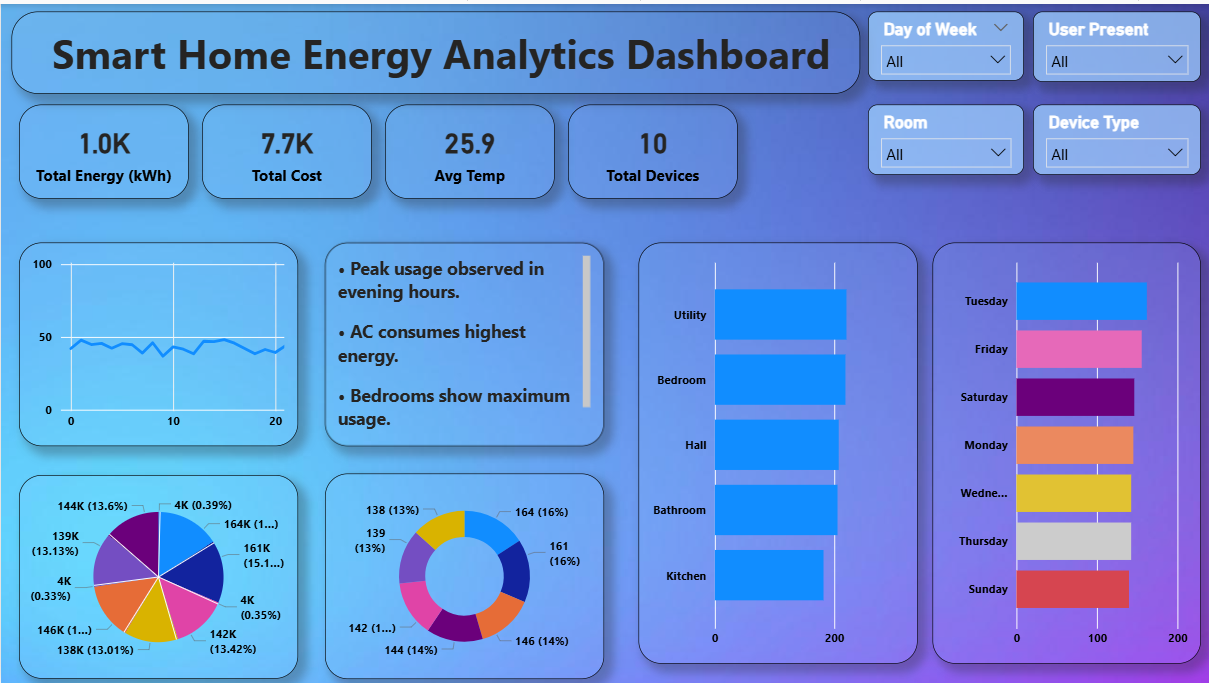

What the dashboard file says about the page in this screenshot:
{"tool":"powerbi","page":{"name":"Smart home ","canvas":[1280,720],"ordinal":0},"visuals":[{"type":"textbox","box":[11.1,8,900.3,87.5],"z":0},{"type":"card","fields":{"Values":["SmartHomeData.Total Energy (kWh)"]},"box":[19.1,106.6,180,100],"z":1000},{"type":"card","fields":{"Values":["SmartHomeData.Total Cost"]},"box":[213.1,106.6,179.7,100.2],"z":2000},{"type":"card","fields":{"Values":["SmartHomeData.Avg Temp"]},"box":[407.2,106.6,179.7,100.2],"z":3000},{"type":"card","fields":{"Values":["SmartHomeData.Total Devices"]},"box":[601.3,106.6,179.7,100.2],"z":4000},{"type":"clusteredBarChart","fields":{"Category":["SmartHomeData.room"],"Y":["SmartHomeData.Total Energy (kWh)"]},"box":[676,252.9,295.9,447],"z":5000},{"type":"donutChart","fields":{"Category":["SmartHomeData.device_type"],"Y":["SmartHomeData.Total Energy (kWh)"]},"box":[343.6,497.9,295.9,217.9],"z":6000},{"type":"lineChart","fields":{"Category":["SmartHomeData.hour_of_day"],"Y":["SmartHomeData.Total Energy (kWh)"]},"box":[19.1,252.9,295.9,216.3],"z":7000},{"type":"pieChart","fields":{"Category":["SmartHomeData.device_type"],"Y":["Sum(SmartHomeData.indoor_temp)","Sum(SmartHomeData.power_watt)"]},"box":[19.1,499.5,295.9,216.3],"z":8000},{"type":"slicer","fields":{"Values":["SmartHomeData.room"]},"box":[919.4,106.6,165.4,74.8],"z":9000},{"type":"slicer","fields":{"Values":["SmartHomeData.device_type"]},"box":[1094.3,106.6,178.1,74.8],"z":10000},{"type":"slicer","fields":{"Values":["SmartHomeData.day_of_week"]},"box":[920,8.3,165,73.3],"z":11000},{"type":"slicer","fields":{"Values":["SmartHomeData.user_present"]},"box":[1094.3,8,178.1,74.8],"z":12000},{"type":"textbox","box":[343.6,252.9,295.9,216.3],"z":13000},{"type":"barChart","fields":{"Category":["SmartHomeData.day_of_week"],"Y":["SmartHomeData.Total Energy (kWh)"]},"box":[987.8,252.9,284.7,447],"z":14000}]}

Visuals, with their boxes in screenshot pixels (x1, y1, x2, y2), scaled from the page's 1280x720 canvas onto the 1209x683 screenshot:
textbox: crop(10, 8, 861, 91)
card - SmartHomeData.Total Energy (kWh): crop(18, 101, 188, 196)
card - SmartHomeData.Total Cost: crop(201, 101, 371, 196)
card - SmartHomeData.Avg Temp: crop(385, 101, 554, 196)
card - SmartHomeData.Total Devices: crop(568, 101, 738, 196)
clusteredBarChart - SmartHomeData.room x SmartHomeData.Total Energy (kWh): crop(639, 240, 918, 664)
donutChart - SmartHomeData.device_type x SmartHomeData.Total Energy (kWh): crop(325, 472, 604, 679)
lineChart - SmartHomeData.hour_of_day x SmartHomeData.Total Energy (kWh): crop(18, 240, 298, 445)
pieChart - SmartHomeData.device_type x Sum(SmartHomeData.indoor_temp): crop(18, 474, 298, 679)
slicer - SmartHomeData.room: crop(868, 101, 1025, 172)
slicer - SmartHomeData.device_type: crop(1034, 101, 1202, 172)
slicer - SmartHomeData.day_of_week: crop(869, 8, 1025, 77)
slicer - SmartHomeData.user_present: crop(1034, 8, 1202, 79)
textbox: crop(325, 240, 604, 445)
barChart - SmartHomeData.day_of_week x SmartHomeData.Total Energy (kWh): crop(933, 240, 1202, 664)
